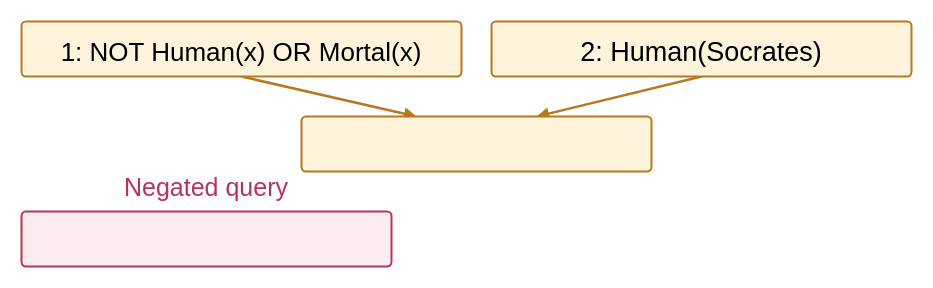
Some shapes in this 933 by 288 pixel diagram are drawn without their labels. Here are the shapes that lost their labels. From the top down, the centre of each, then its label:
At point 476,143: "4: Mortal(Socrates)".
At point 206,238: "3: NOT Mortal(Socrates)".
